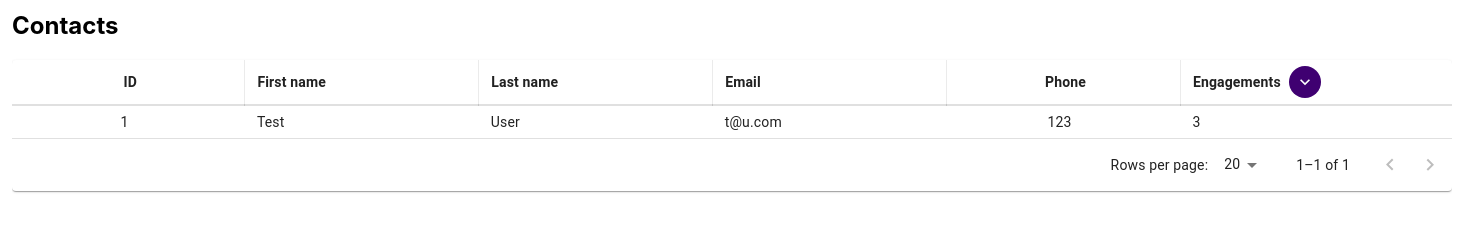
Test: Contacts page grouped engagements column › shows engagement count and expands to reveal first/last contact dates
Expected: the text "Test" is shown, [257, 114, 284, 130]
Expected: the text "3" is shown, [1192, 112, 1200, 132]
Click the button named "Expand": [1305, 82] box [1289, 66, 1321, 98]
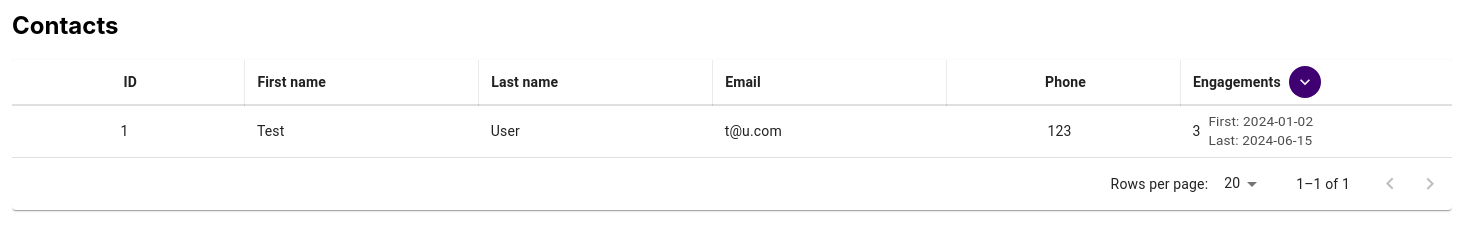
Now the text "First: 2024-01-02" is shown, box [1208, 112, 1313, 131]
Now the text "Last: 2024-06-15" is shown, box [1208, 131, 1313, 151]
